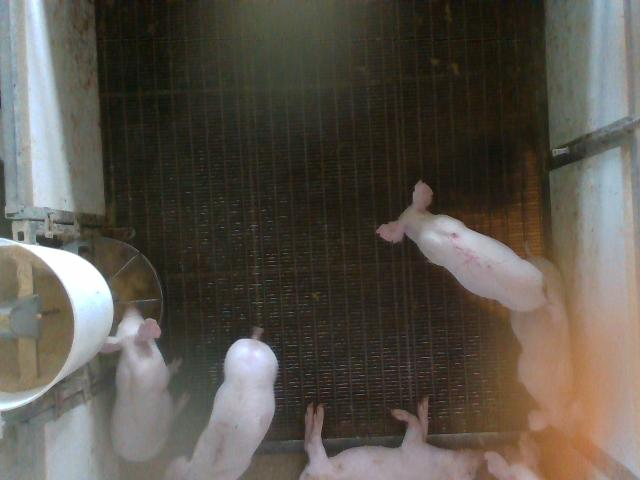pig-3: (165, 328, 278, 479)
pig-4: (511, 258, 580, 433)
pig-5: (378, 181, 546, 312)
